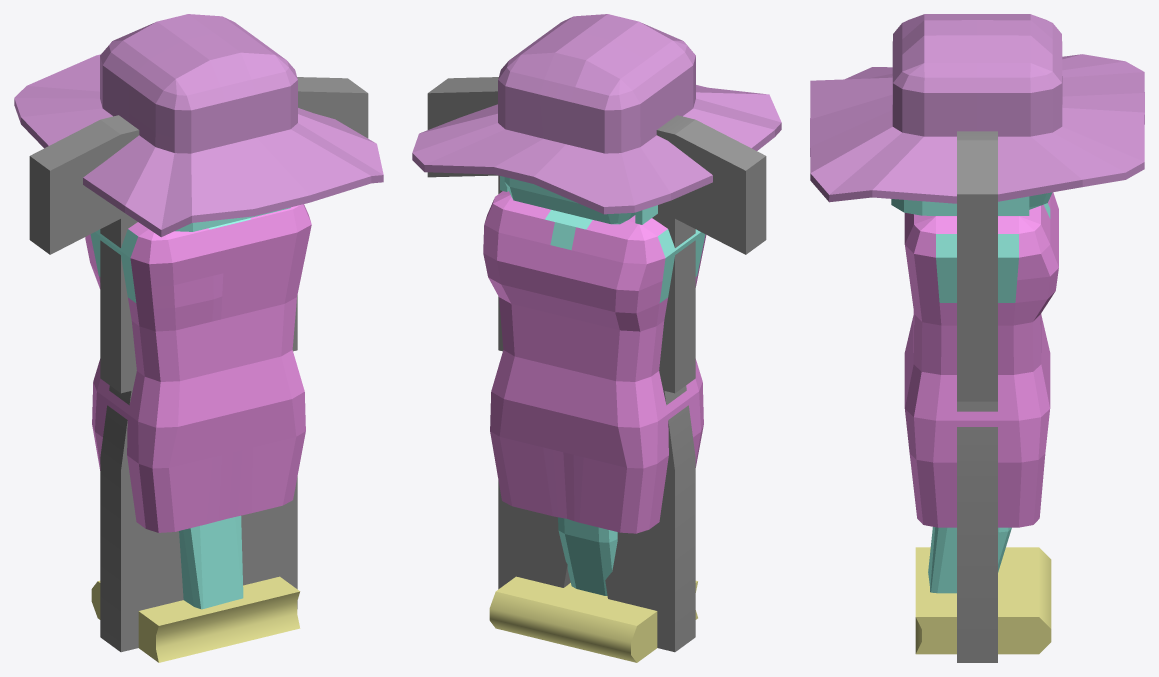
The model's file is pop_broek_shirt_gevouwen_.FBX.
3 views of the same model, side by side, from view 1: azimuth 30°, elevation 25°; view 2: azimuth 150°, elevation 25°; view 3: azimuth 270°, elevation 25° (orthographic).
Visible parts, largest first — view 1: paspop, t-Shrt, broek, gevouwen; view 2: paspop, t-Shrt, broek, gevouwen; view 3: paspop, t-Shrt, broek, gevouwen.
Part boxes in pixels (<box>): paspop: <box>14,14,383,609</box>; t-Shrt: <box>29,77,368,393</box>; broek: <box>100,385,297,652</box>; gevouwen: <box>91,576,300,662</box>; paspop: <box>412,14,781,595</box>; t-Shrt: <box>427,77,766,393</box>; broek: <box>498,385,695,652</box>; gevouwen: <box>489,576,697,662</box>; paspop: <box>810,14,1144,593</box>; t-Shrt: <box>957,131,997,401</box>; broek: <box>957,401,997,662</box>; gevouwen: <box>915,547,1051,654</box>.
Bounding box in the file's own units: 0.9 × 1.59 × 0.8127.
